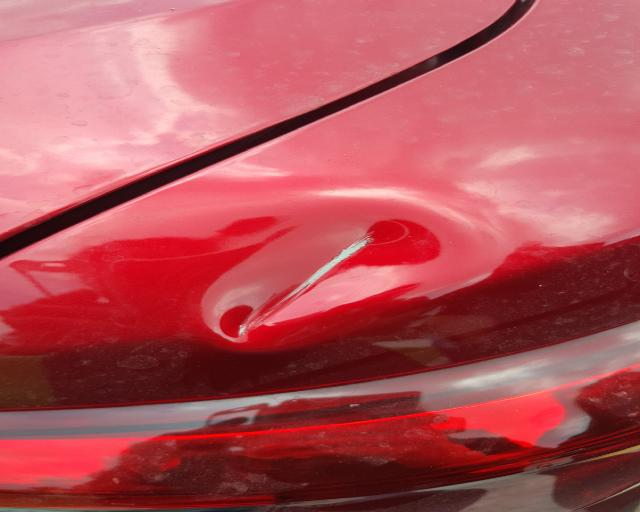dent: (208, 198, 499, 342)
